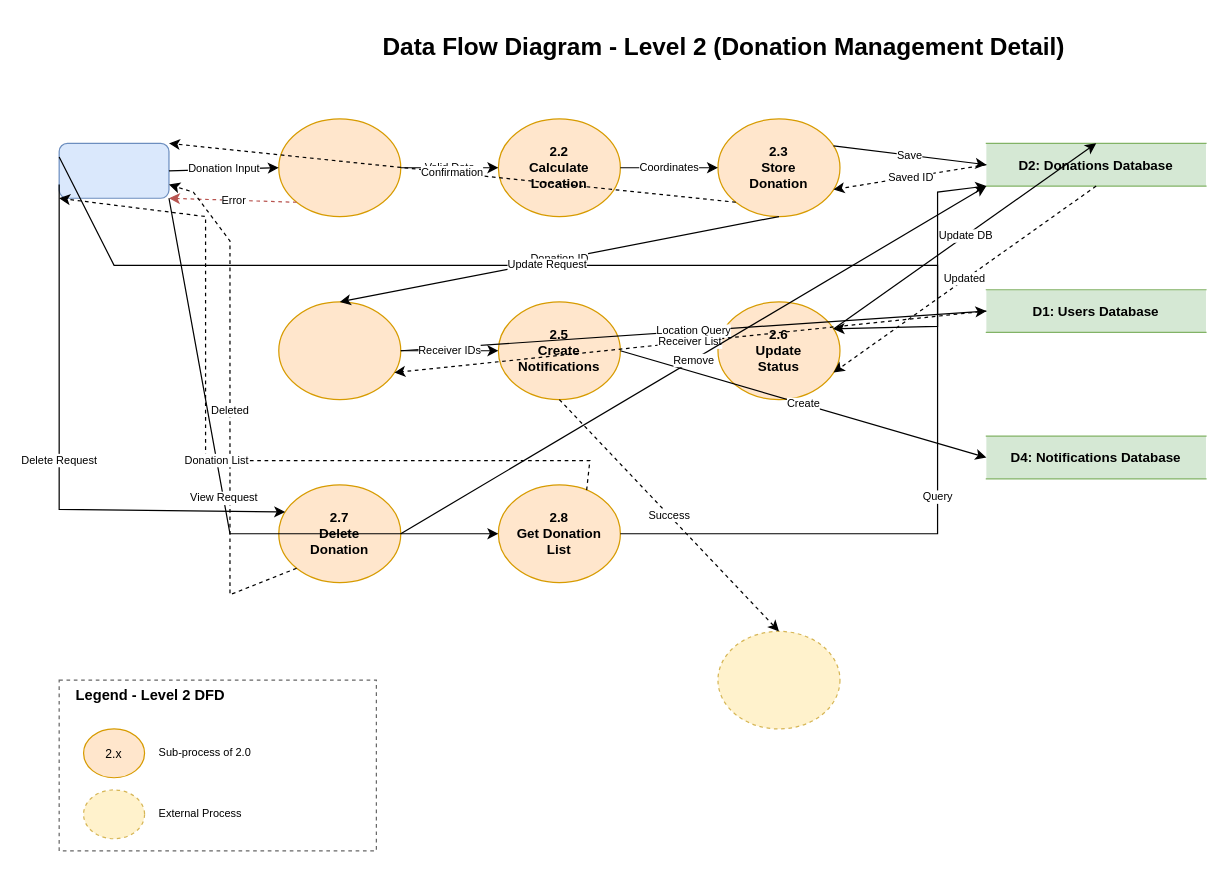
The diagram is 1227 pixels wide and 872 high, and some of its shapes have lost their labels. The shapes that lost their labels are listed below. From the top down, each one's box as (x1, y1, x2, y2) in pixels, then its label:
(58, 142, 169, 198): Donor
(278, 118, 401, 217): 2.1 Validate Donation
(278, 301, 401, 400): 2.4 Find Nearby Receivers
(717, 630, 840, 729): 4.0 Notification System
